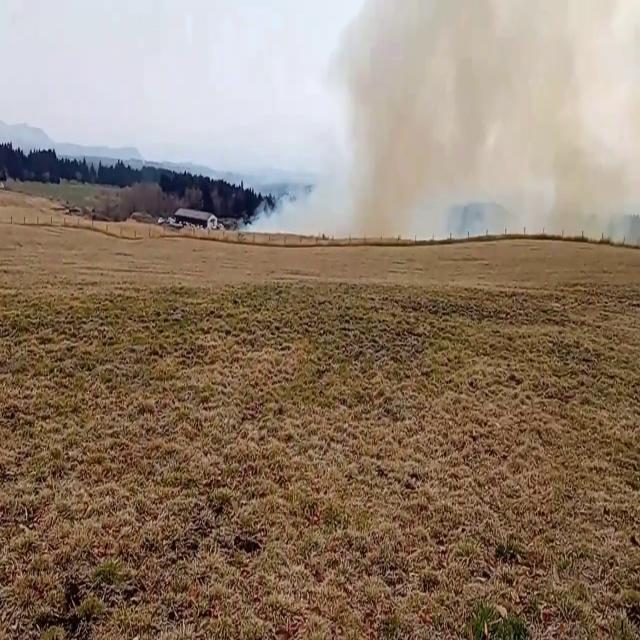Smoke: (246, 0, 640, 245)
